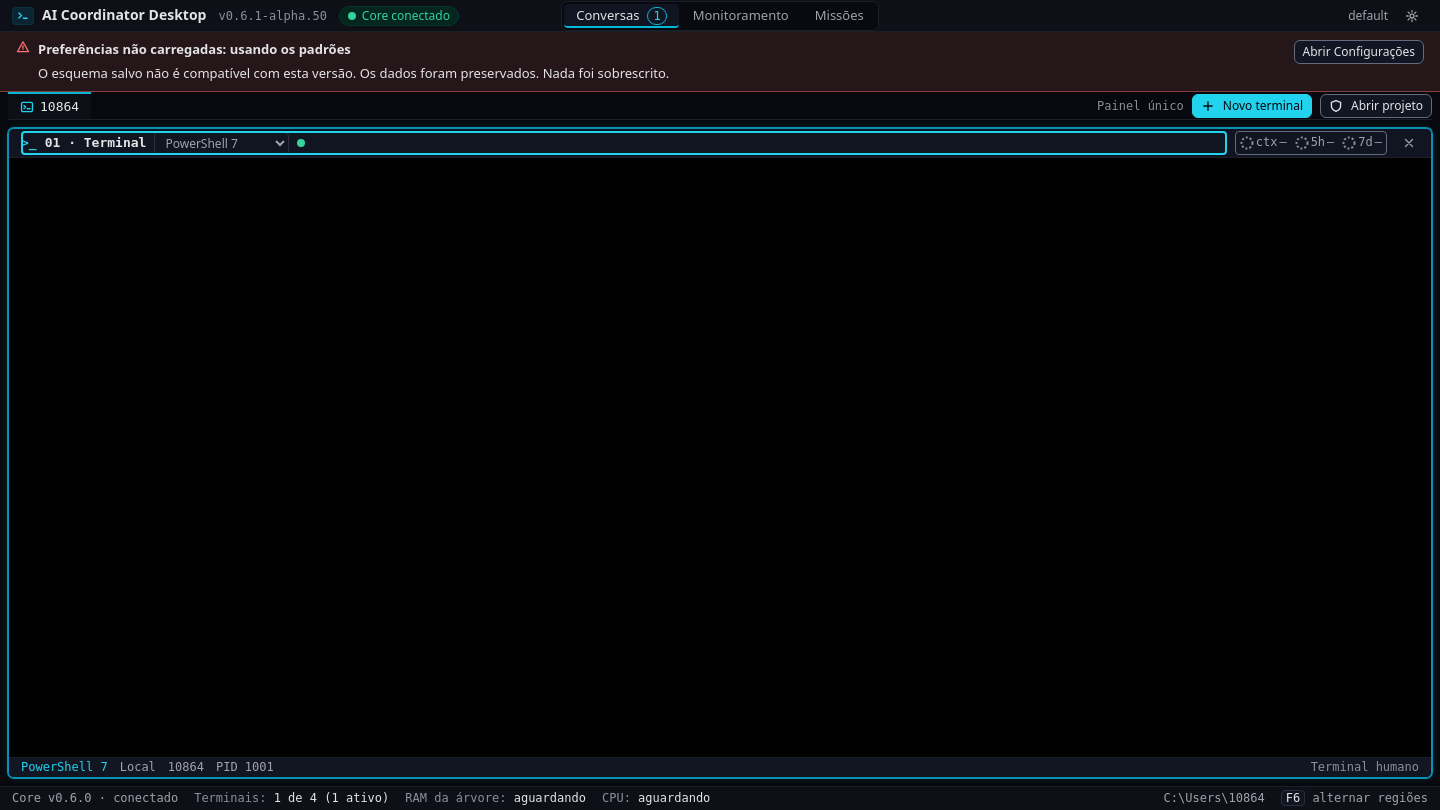
Test: App — inicialização que nunca trava (E2-6, K1, K2, K5) › settings_get falhando: o terminal abre com os padrões e o motivo fica visível até carregar
Expected: the text "Core conectado" is shown, [339,6,459,26]
Expected: the element with test id "system-notices" shows "Preferências não carregadas: usando os padrões", [38,40,351,58]
Click the button "Abrir Configurações". click: (1359, 52)
box: [1294,40,1424,64]
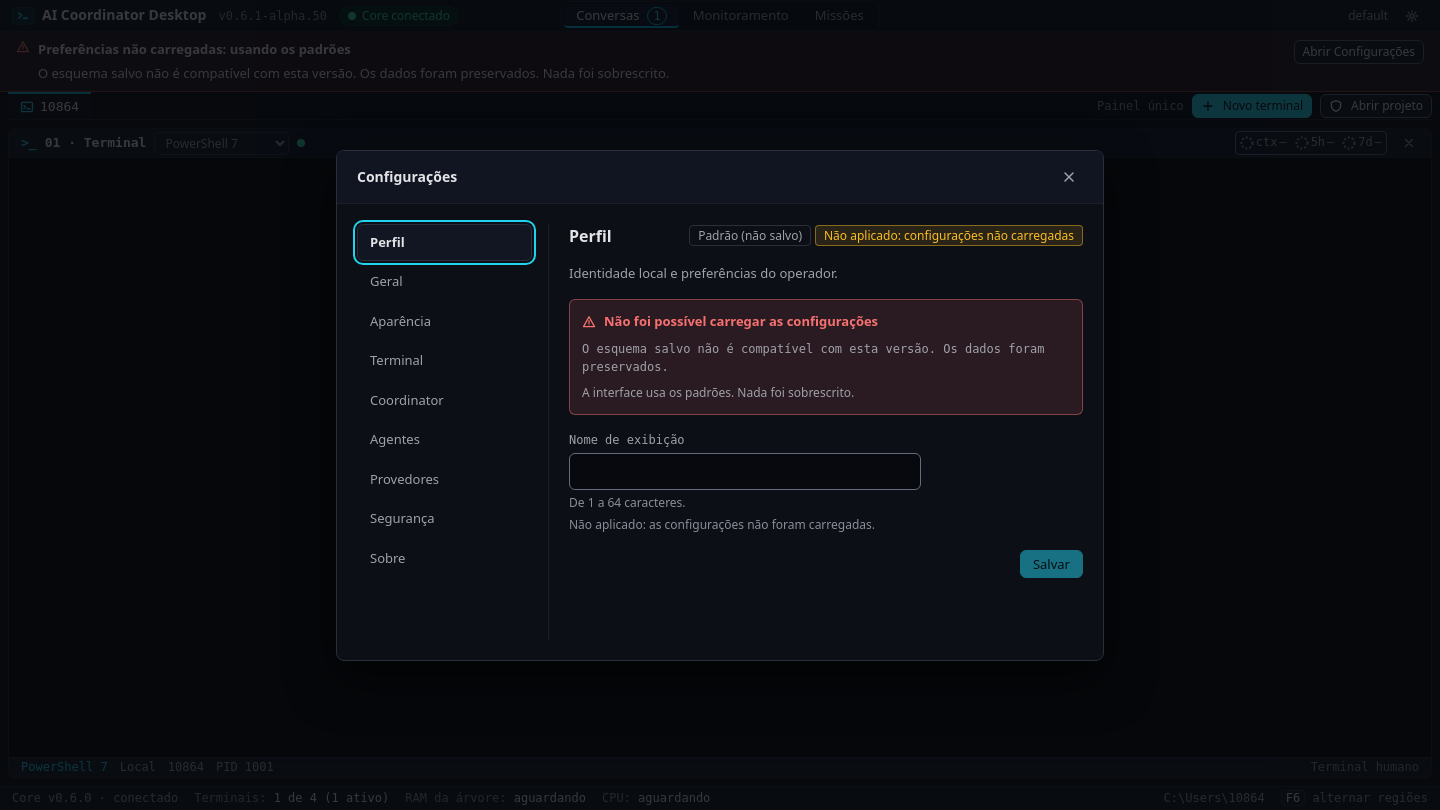
Result: the dialog "Configurações" is shown at [336,150,1104,660]
